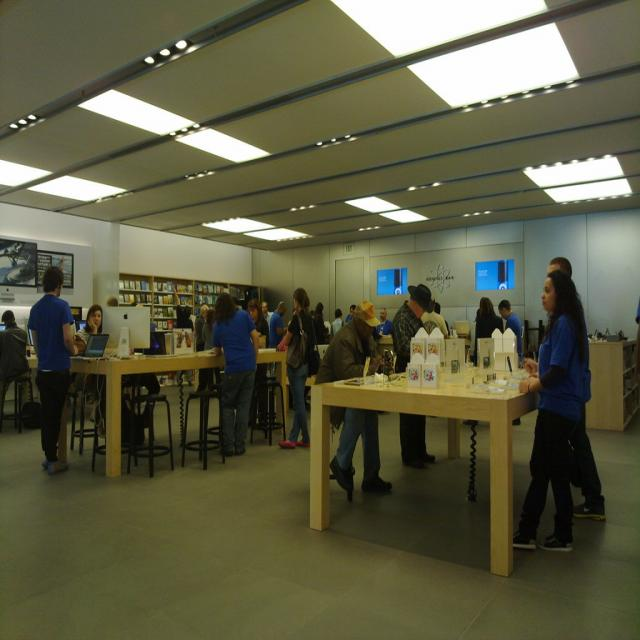chair: (104, 373, 174, 478)
desk: (324, 348, 538, 570)
laptop: (80, 334, 110, 358)
person: (513, 263, 602, 551), (314, 299, 394, 505), (28, 264, 80, 475), (391, 282, 439, 468), (211, 291, 260, 460), (276, 287, 318, 448), (494, 300, 524, 358)
tv: (0, 240, 38, 286)
